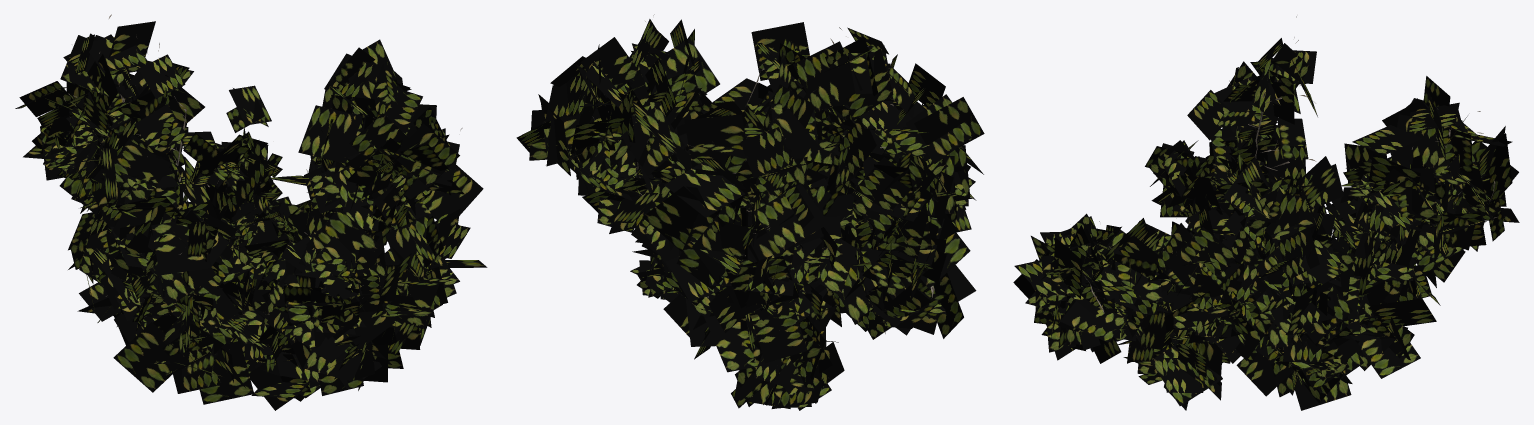
Rendered from tree_island_c.glb.
The picture shows the model from 3 angles, left to right: view 1: azimuth 30°, elevation 25°; view 2: azimuth 150°, elevation 25°; view 3: azimuth 270°, elevation 25°; orthographic projection. The views are drawn at different scales.
Bounding box in the file's own units: 2.52 × 2.3 × 3.05.
Materials: 2 (2 with a texture image).
